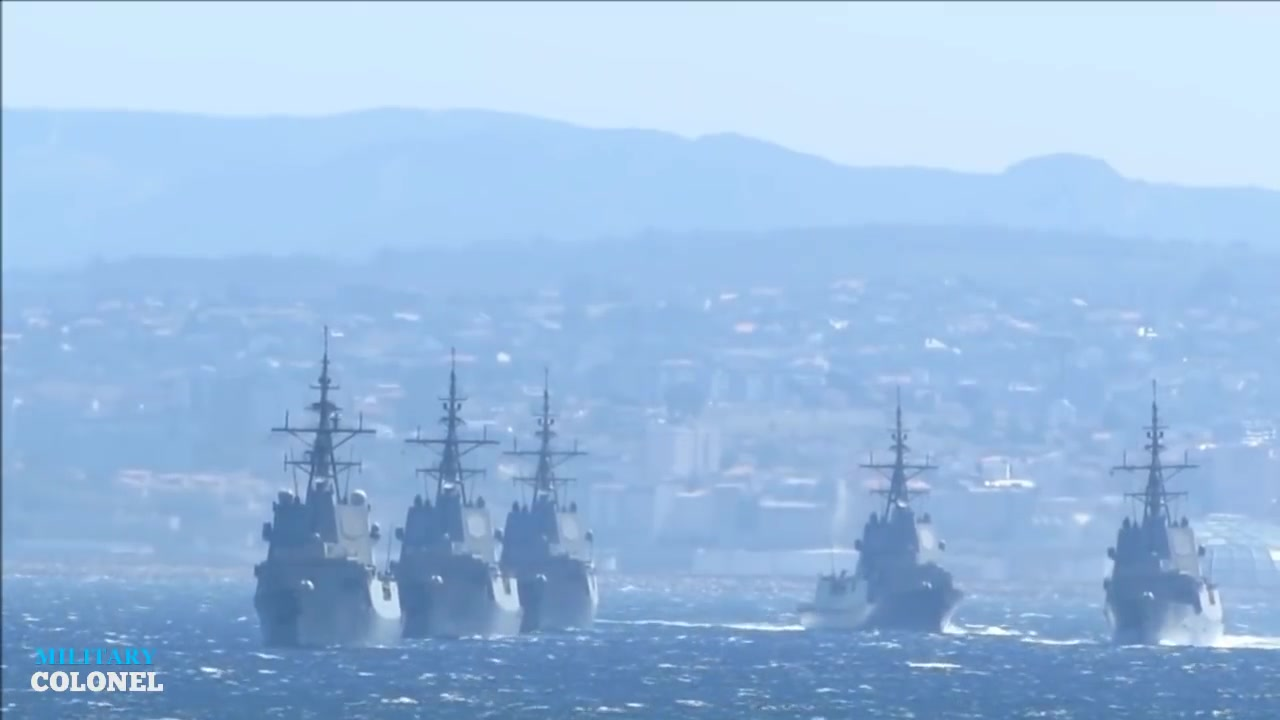WarShip: (245, 315, 412, 657), (390, 334, 537, 644), (811, 387, 972, 645), (1088, 369, 1235, 646), (502, 364, 607, 631)
